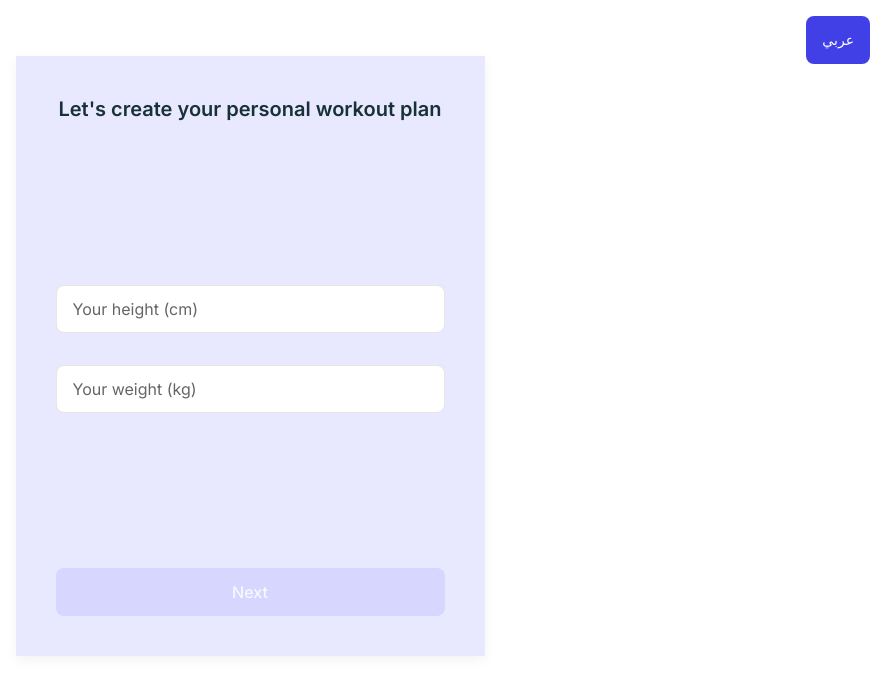
Test case: WorkoutForm › validates height and weight inputs
In the number field with placeholder "Your height (cm)": (250,309) x1=56 y1=285 x2=444 y2=333, type "50"
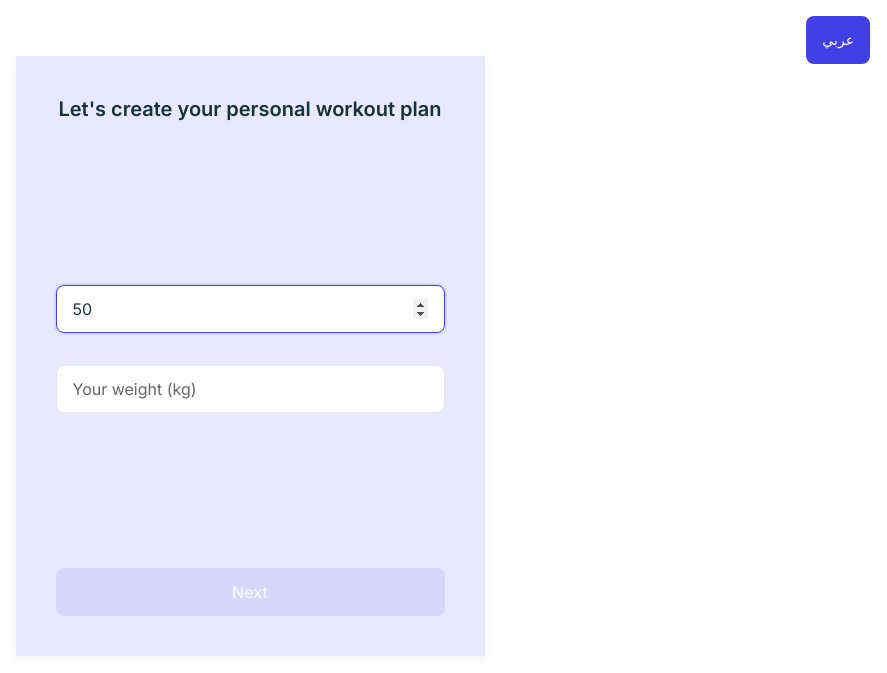
In the number field with placeholder "Your weight (kg)": (250,389) x1=56 y1=365 x2=444 y2=413, type "20"
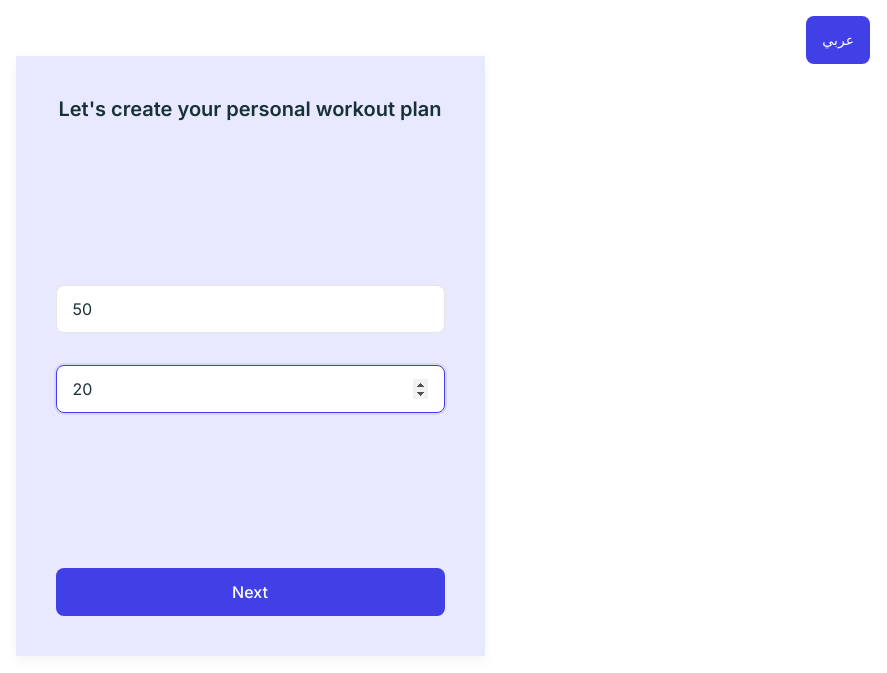
Click the button "Next": (250,592) x1=56 y1=568 x2=444 y2=616
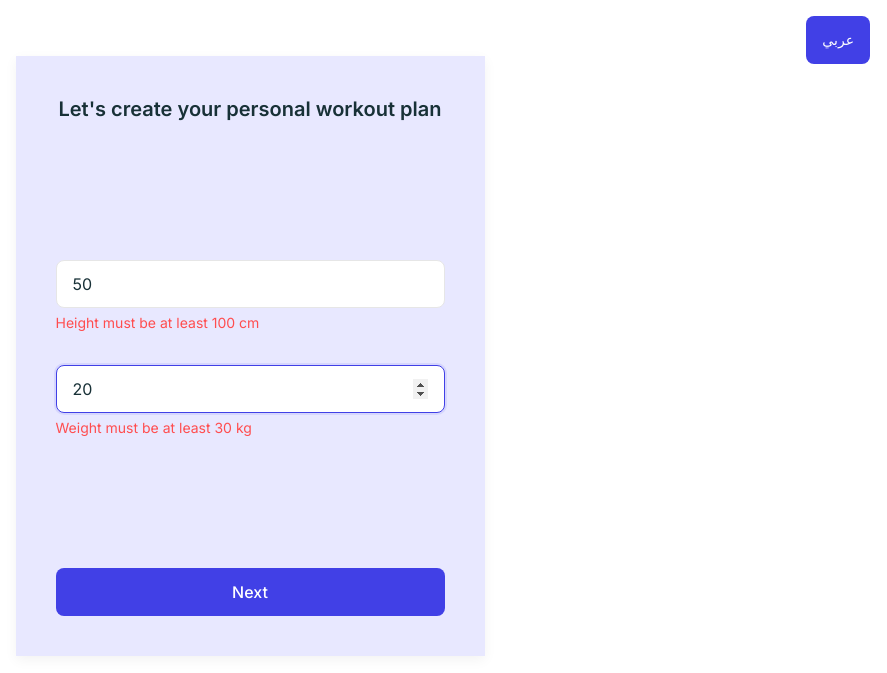
Expected: the text "Height must be at least 100 cm" is shown, x1=56 y1=314 x2=259 y2=331
Expected: the text "Weight must be at least 30 kg" is shown, x1=56 y1=419 x2=252 y2=436
